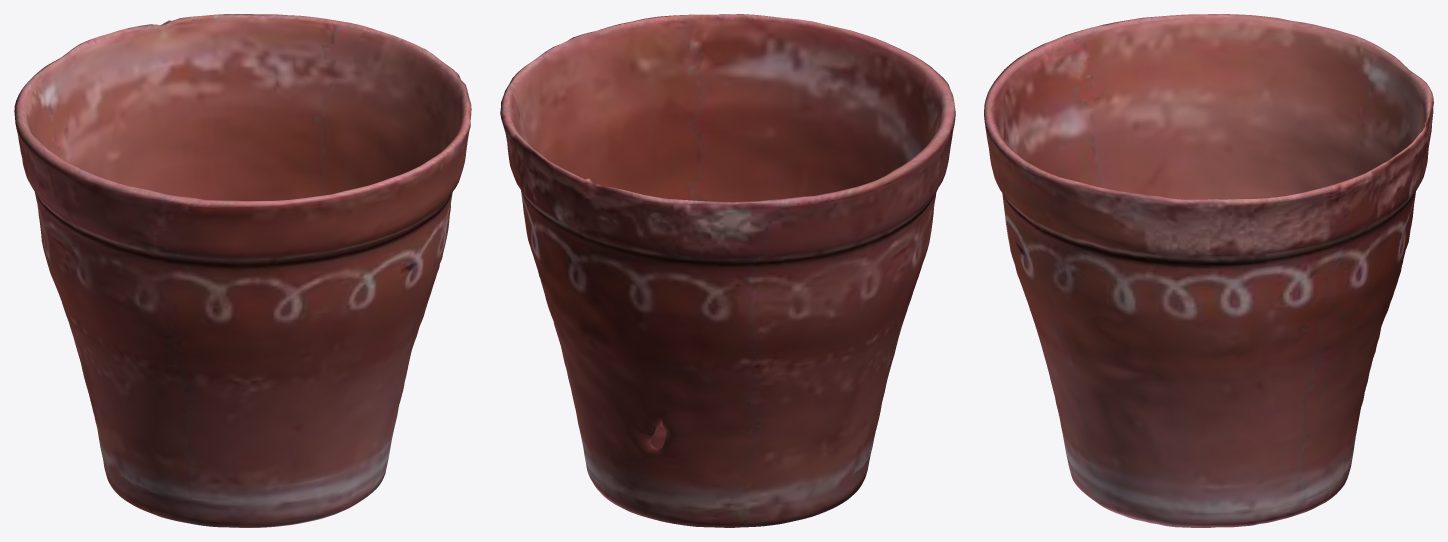
File: tc-dc-flower_pot.glb
3 views of the same model, side by side, from view 1: azimuth 30°, elevation 25°; view 2: azimuth 150°, elevation 25°; view 3: azimuth 270°, elevation 25° (orthographic).
Parts seen in each view (by area): view 1: Object_2; view 2: Object_2; view 3: Object_2.
Boxes of the visible parts, box(x1,y1,x2,y2) form: Object_2: box(14, 14, 471, 527); Object_2: box(500, 14, 955, 527); Object_2: box(984, 14, 1433, 527).
Size of the model in its own units: 0.1736 by 0.1552 by 0.1722.
1 material, 1 textured.
